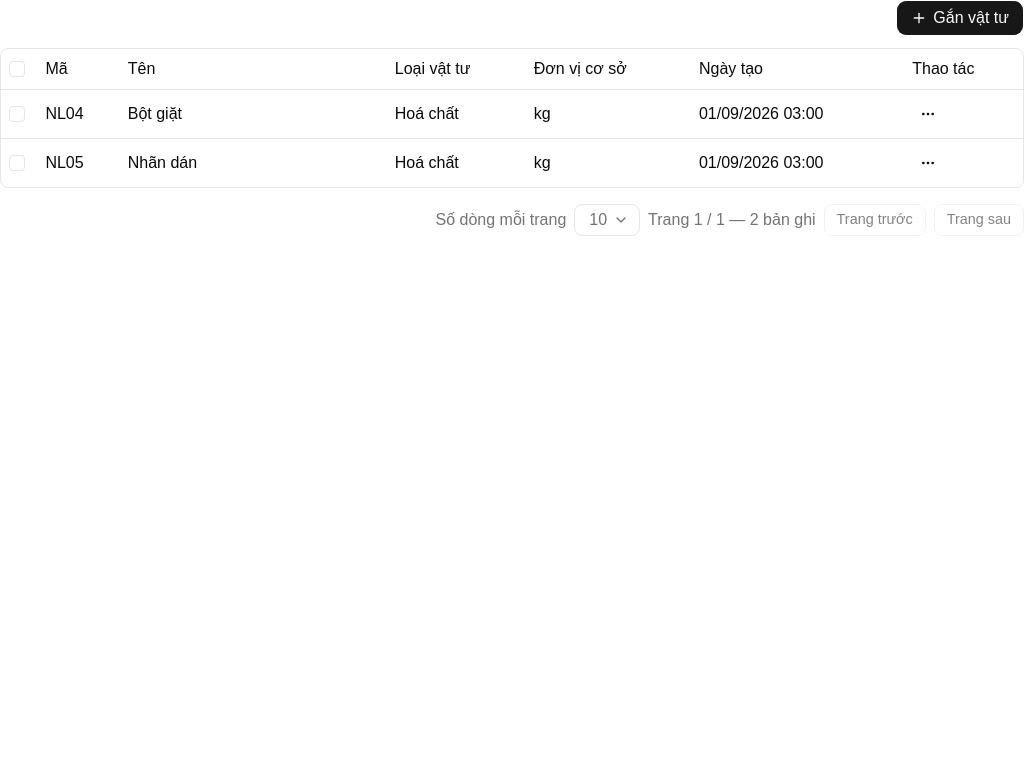
SupplierMaterials — chọn nhiều để gỡ › tick 2 dòng → nút "Gỡ (2)" mở hộp liệt kê cả 2; chưa tick thì không có nút
Expected: the text "Bột giặt" is shown, [128,104,182,122]
Expected: the button "Gỡ (" is not shown
What coordinates should you click on to do the following:
click the checkbox named "Chọn NL04"
I would click on:
 (17, 114)
Its box is [9,106,25,122].
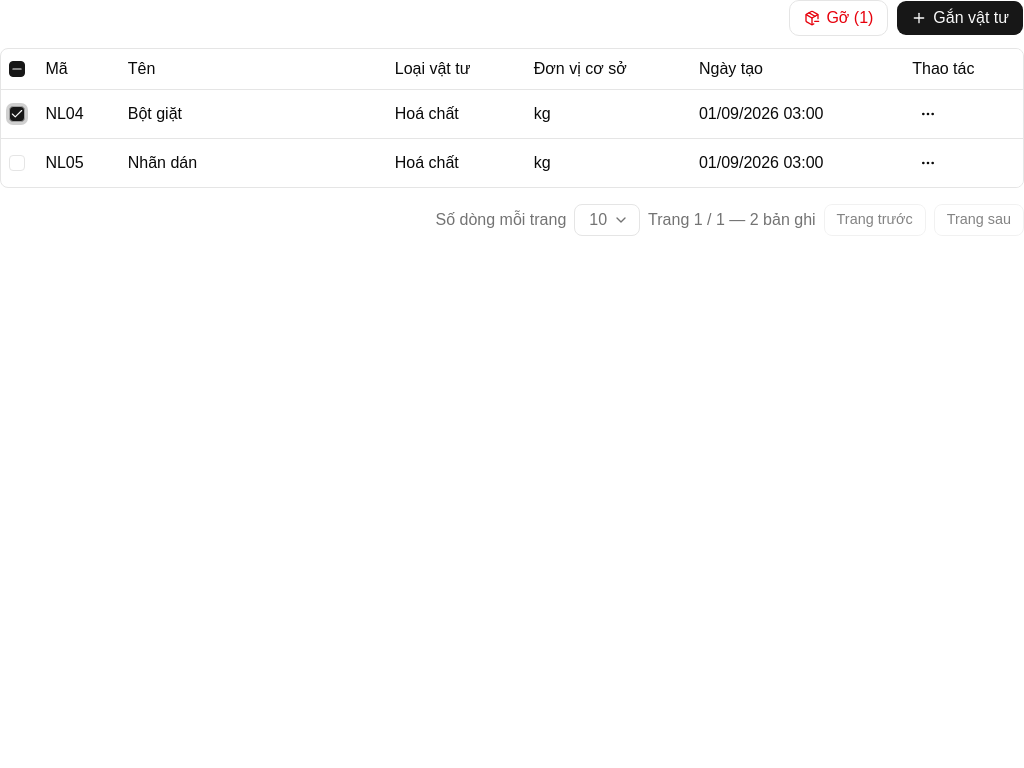
What coordinates should you click on to do the following:
click the checkbox named "Chọn NL05"
I would click on:
 (17, 162)
Its box is [9,154,25,170].
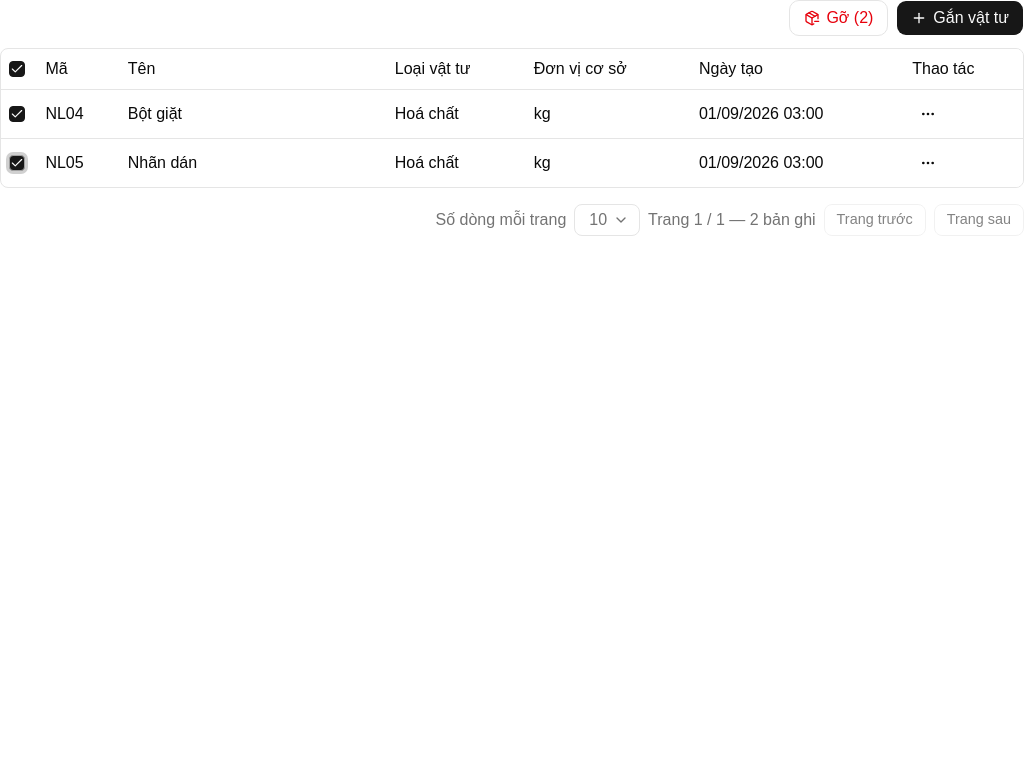
What coordinates should you click on to do the following:
click the button "Gỡ (2)"
I would click on:
 (839, 18)
Its box is [789,0,888,36].
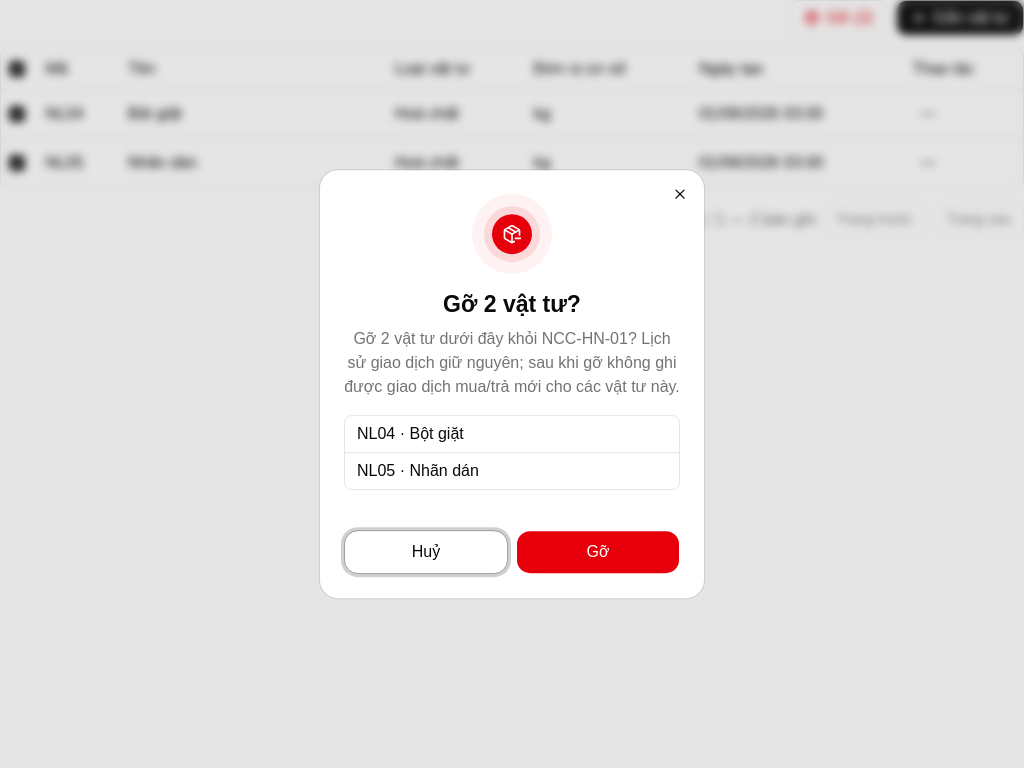
Result: the dialog "Gỡ 2 vật tư?" shows "NL04 · Bột giặt" at [320,170,704,598]
Result: the dialog "Gỡ 2 vật tư?" shows "NL05 · Nhãn dán" at [320,170,704,598]
